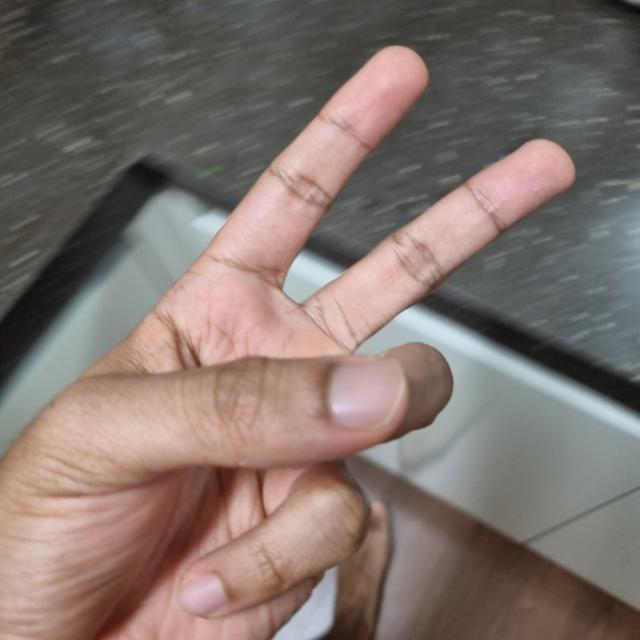Scissors: (1, 43, 636, 639)
